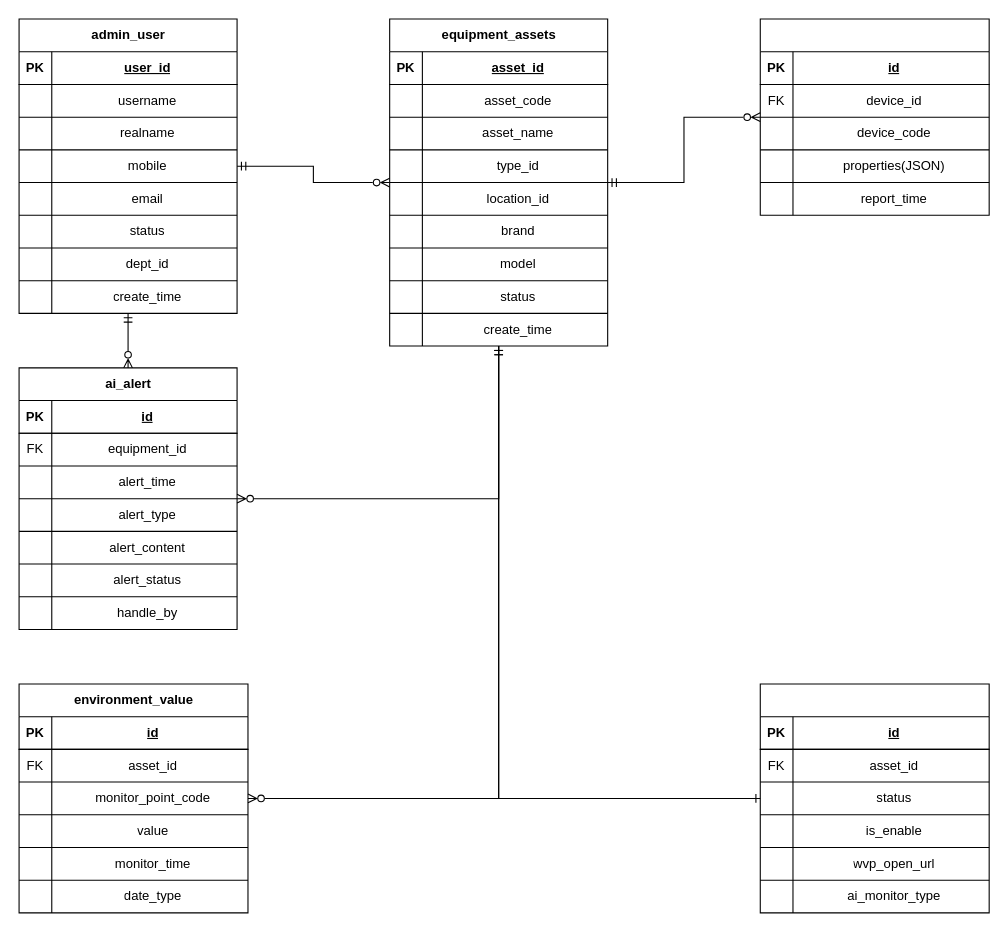
Some shapes in this 1008 by 932 pixel diagram are drawn without their labels. Each missing label, with the box of its shape:
device_camera: (759, 683, 989, 913)
device_data: (759, 18, 989, 215)
